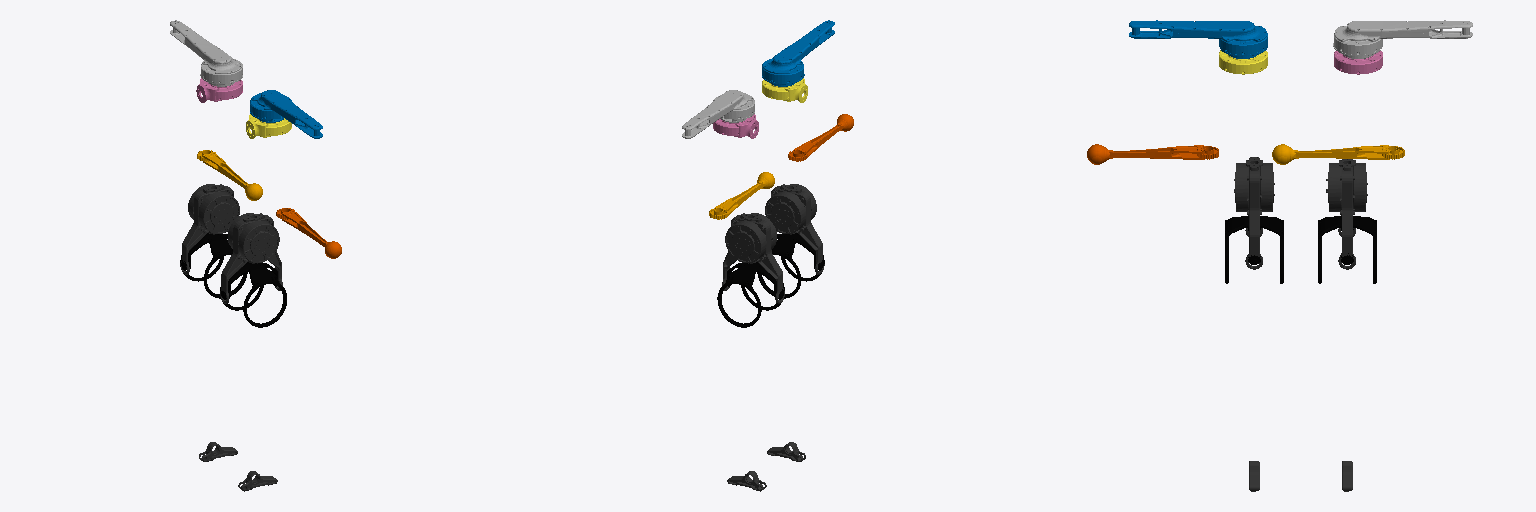
URDF robot description (humanoid):
<robot name="humanoid">
  <!-- ===== DUMMY 'BASE' LINK ==== -->
  <link name="torso">
    <inertial>
      <mass value="6.5"/>
      <origin xyz="0.0 0.0 0.15"/>
      <inertia ixx="0.3006167" ixy="0" ixz="0" iyy="0.23837" iyz="0" izz="0.09690467"/>
    </inertial>
    <visual>
      <geometry>
         <mesh filename="meshes/Body.dae" scale="1 1 1"/>
      </geometry>
      <origin rpy="-1.5707 0 0" xyz="0 0 0"/>
    </visual>
  </link>
  <!--!!!!!!!!!!!!!!!!!!!!!RIGHT LEG!!!!!!!!!!!!!!!!!!!!!!!!!!!!!!!!!!!!!!!!!!!!!!!!-->
  <joint name="r_hip_yaw" type="continuous">
    <axis xyz="0 0 1"/>
    <origin rpy="0 0 0" xyz="0.0 -0.090 -0.029"/>
    <parent link="torso"/>
    <child link="R_HIP_C"/>
  </joint>
  <link name="R_HIP_C">
    <inertial>
      <mass value="1.20717"/>
      <origin xyz="-0.00043 0.0 -0.05917"/>
      <inertia ixx="0.001996651" ixy="0.000000328" ixz="0.000040451" iyy="0.002472257" iyz="0.0" izz="0.001645947"/>
    </inertial>
      <visual>
        <geometry>
          <mesh filename="meshes_tello/HIP_C.dae" scale="1 1 1"/>
        </geometry>
        <origin rpy="0.0 0.0 0.0" xyz="0.0 0.0 0.0"/>
    </visual>
 </link>

  <joint name="r_hip_roll" type="continuous">
    <axis xyz="1 0 0"/>
    <origin rpy="0.0 0.0 0.0" xyz="0.0 0.0 -0.175"/>
    <parent link="R_HIP_C"/>
    <child link="R_HIP_GIMBAL"/>
  </joint>
  <link name="R_HIP_GIMBAL">
    <inertial>
      <mass value="0.26433"/>
      <origin xyz="-0.00152 0.0 0.01677"/>
      <inertia ixx="0.000735018" ixy="0.0" ixz="0.000001772" iyy="0.000715107" iyz="0.000000002" izz="0.000728669"/>
    </inertial>
      <visual>
        <geometry>
          <mesh filename="meshes_tello/HIP_GIMBAL.dae" scale="1 1 1"/>
        </geometry>
        <origin rpy="0.0 0.0 0.0" xyz="0.0 0.0 0.0"/>
    </visual>
 </link>


  <joint name="r_hip_pitch" type="continuous">
    <axis xyz="0 1 0"/>
    <origin rpy="0.0 0 0.0" xyz="0.0 0.0 -0.022"/>
    <parent link="R_HIP_GIMBAL"/>
    <child link="R_THIGH"/>
  </joint>

  <link name="R_THIGH">
    <inertial>
      <mass value="2.111"/>
      <origin xyz="-0.00525 0.00011 -0.03179"/>
      <inertia ixx="0.012171016" ixy="-0.000013456" ixz="-0.000145044" iyy="0.011789322" iyz="0.000027517" izz="0.003575467"/>
    </inertial>
     <visual>
       <geometry>
         <mesh filename="meshes_tello/THIGH.dae" scale="1 1 1"/>
       </geometry>
       <origin rpy="0.0 0.0 0.0" xyz="0.0 0.0 0.0"/>
    </visual>
  </link>

  <joint name="r_knee" type="continuous">
    <axis xyz="0 1 0"/>
    <!-- <origin rpy="0 0 0" xyz="0.0 0.0 -0.47"/> -->
    <origin rpy="0 0 0" xyz="0.0 0.0 -0.2276"/>
    <parent link="R_THIGH"/>
    <child link="R_SHANK" />
  </joint>

  <link name="R_SHANK">
    <inertial>
      <mass value="0.37773"/>
      <origin xyz="0.00396 -0.00016 -0.098.34"/>
      <inertia ixx="0.001797413" ixy="0.000002934" ixz="0.000019506" iyy="0.001815537" iyz="0.000003553" izz="0.000143890"/>
    </inertial>
      <visual>
        <geometry>
          <mesh filename="meshes_tello/SHANK.dae" scale="1 1 1"/>
        </geometry>
        <origin rpy="0.0 0.0 0.0" xyz="0.0 0.0 0.0"/>
    </visual>
  </link>

  <joint name="r_ankle" type="continuous">
    <axis xyz="0 1 0"/>
    <!-- <origin rpy="0 0 0" xyz="0.0 0.0 -0.47"/> -->
    <origin rpy="0 0 0" xyz="0.0 0.0 -0.2276"/>
    <parent link="R_SHANK"/>
    <child link="R_Foot" />
  </joint>

  <link name="R_Foot">
    <inertial>
      <mass value="0.05552"/>
      <origin xyz="0.01067 0.0 -0.01226"/>
      <inertia ixx="0.000006734" ixy="0.0" ixz="0.000002630" iyy="0.000036387" iyz="0.0" izz="0.000032703"/>
    </inertial>
      <visual>
        <geometry>
          <mesh filename="meshes_tello/FOOT.dae" scale="1 1 1"/>
        </geometry>
        <origin rpy="0.0 0.0 0.0" xyz="0.0 0.0 0.0"/>
    </visual>
  </link>

  <!--!!!!!!!!!!!!!!!!!!!!!LEFT LEG!!!!!!!!!!!!!!!!!!!!!!!!!!!!!!!!!!!!!!!!!!!!!!!!-->
  <joint name="l_hip_yaw" type="continuous">
    <axis xyz="0 0 1"/>
    <origin rpy="0 0 0" xyz="0.0 0.090 -0.029"/>
    <parent link="torso"/>
    <child link="L_HIP_C"/>
  </joint>
  <link name="L_HIP_C">
    <inertial>
      <mass value="1.19633"/>
      <origin xyz="-0.00044 0.0 -0.05368"/>
      <inertia ixx="0.001961019" ixy="0.000000328" ixz="0.000040006" iyy="0.002434744" iyz="0.0" izz="0.001642970"/>
    </inertial>
      <visual>
        <geometry>
          <mesh filename="meshes_tello/HIP_C.dae" scale="1 1 1"/>
        </geometry>
        <origin rpy="0.0 0.0 0.0" xyz="0.0 0.0 0.0"/>
    </visual>
 </link>

  <joint name="l_hip_roll" type="continuous">
    <axis xyz="1 0 0"/>
    <origin rpy="0.0 0.0 0.0" xyz="0.0 0.0 -0.175"/>
    <parent link="L_HIP_C"/>
    <child link="L_HIP_GIMBAL"/>
  </joint>
  <link name="L_HIP_GIMBAL">
    <inertial>
      <mass value="0.26433"/>
      <origin xyz="-0.00152 0.0 0.01677"/>
      <inertia ixx="0.000735018" ixy="0.0" ixz="0.000001772" iyy="0.000715107" iyz="0.000000002" izz="0.000728669"/>
    </inertial>
      <visual>
        <geometry>
          <mesh filename="meshes_tello/HIP_GIMBAL.dae" scale="1 1 1"/>
        </geometry>
        <origin rpy="0.0 0.0 0.0" xyz="0.0 0.0 0.0"/>
    </visual>
 </link>

  <joint name="l_hip_pitch" type="continuous">
    <axis xyz="0 1 0"/>
    <origin rpy="0.0 0 0.0" xyz="0.0 0.0 -0.022"/>
    <parent link="L_HIP_GIMBAL"/>
    <child link="L_THIGH"/>
  </joint>

  <link name="L_THIGH">
    <inertial>
      <mass value="2.111"/>
      <origin xyz="-0.00525 0.00011 -0.03179"/>
      <inertia ixx="0.012171016" ixy="-0.000013456" ixz="-0.000145044" iyy="0.011789322" iyz="0.000027517" izz="0.003575467"/>
    </inertial>
     <visual>
       <geometry>
         <mesh filename="meshes_tello/THIGH.dae" scale="1 1 1"/>
       </geometry>
       <origin rpy="0.0 0.0 0.0" xyz="0.0 0.0 0.0"/>
    </visual>
  </link>

  <joint name="l_knee" type="continuous">
    <axis xyz="0 1 0"/>
    <!-- <origin rpy="0 0 0" xyz="0.0 0.0 -0.47"/> -->
    <origin rpy="0 0 0" xyz="0.0 0.0 -0.2276"/>
    <parent link="L_THIGH"/>
    <child link="L_SHANK" />
  </joint>

  <link name="L_SHANK">
    <inertial>
      <mass value="0.37773"/>
      <origin xyz="0.00396 -0.00016 -0.098.34"/>
      <inertia ixx="0.001797413" ixy="0.000002934" ixz="0.000019506" iyy="0.001815537" iyz="0.000003553" izz="0.000143890"/>
    </inertial>
      <visual>
        <geometry>
          <mesh filename="meshes_tello/SHANK.dae" scale="1 1 1"/>
        </geometry>
        <origin rpy="0.0 0.0 0.0" xyz="0.0 0.0 0.0"/>
    </visual>
  </link>

  <joint name="l_ankle" type="continuous">
    <axis xyz="0 1 0"/>
    <!-- <origin rpy="0 0 0" xyz="0.0 0.0 -0.47"/> -->
    <origin rpy="0 0 0" xyz="0.0 0.0 -0.2276"/>
    <parent link="L_SHANK"/>
    <child link="L_Foot" />
  </joint>

  <link name="L_Foot">
    <inertial>
      <mass value="0.05552"/>
      <origin xyz="0.01067 0.0 -0.01226"/>
      <inertia ixx="0.000006734" ixy="0.0" ixz="0.000002630" iyy="0.000036387" iyz="0.0" izz="0.000032703"/>
    </inertial>
      <visual>
        <geometry>
          <mesh filename="meshes_tello/FOOT.dae" scale="1 1 1"/>
        </geometry>
        <origin rpy="0.0 0.0 0.0" xyz="0.0 0.0 0.0"/>
    </visual>
  </link>

  <!--!!!!!!!!!!!!!!!!!!!!!RIGHT ARM!!!!!!!!!!!!!!!!!!!!!!!!!!!!!!!!!!!!!!!!!!!!!!!!-->
  <joint name="torso_to_R_ShoulderRx" type="continuous">
    <axis xyz="1 0 0"/>
    <origin rpy="0 0 0" xyz="-0.0215 -0.1115 0.202"/>
    <parent link="torso"/>
    <child link="R_ShoulderRx"/>
  </joint>
  <link name="R_ShoulderRx">
    <inertial>
      <mass value="0.30"/>
      <origin xyz="0.01 0.0 0.0"/>
      <inertia ixx="0.003735" ixy="0.0" ixz="0.0" iyy="0.01391" iyz="0.0" izz="0.01355"/>
    </inertial>
    <visual>
      <geometry>
        <mesh filename="meshes/ShoulderRx.dae" scale="1 1 1"/>
      </geometry>
      <origin rpy="-1.5707 0 0.0" xyz="0. 0. 0"/>
    </visual>
   </link>

  <joint name="R_ShoulderRx_to_R_UpperArm" type="continuous">
    <axis xyz="0 1 0"/>
    <origin rpy="0 0 0" xyz="0.0545 0.0 0.0"/>
    <parent link="R_ShoulderRx"/>
    <child link="R_UpperArm"/>
  </joint>
  <link name="R_UpperArm">
    <inertial>
      <mass value="0.37"/>
      <origin xyz="0.0 0.0 -0.09"/>
      <inertia ixx="0.003735" ixy="0.0" ixz="0.0" iyy="0.01391" iyz="0.0" izz="0.01355"/>
    </inertial>
    <visual>
      <geometry>
        <mesh filename="meshes/UpperArm.dae" scale="1 1 1"/>
      </geometry>
      <origin rpy="-1.5707 0 0.0" xyz="0. 0. 0"/>
    </visual>
  </link>

  <joint name="R_UpperArm_to_R_ForeArm" type="continuous">
    <axis xyz="0 1 0"/>
    <origin rpy="0 0 0" xyz="0.0 -0.068 -0.195"/>
    <parent link="R_UpperArm"/>
    <child link="R_ForeArm"/>
  </joint>
  <link name="R_ForeArm">
    <inertial>
      <mass value="0.1"/>
      <origin xyz="0.0 0.0 -0.04"/>
      <inertia ixx="0.003735" ixy="0.0" ixz="0.0" iyy="0.01391" iyz="0.0" izz="0.01355"/>
    </inertial>
    <visual>
      <geometry>
         <mesh filename="meshes/ForeArm2.dae" scale="1 1 1"/>
      </geometry>
      <origin rpy="-1.5707 0 0" xyz="0.0 0.0 0"/>
    </visual>
  </link>

  <!--!!!!!!!!!!!!!!!!!!!!!LEFT ARM!!!!!!!!!!!!!!!!!!!!!!!!!!!!!!!!!!!!!!!!!!!!!!!!-->
  <joint name="torso_to_L_ShoulderRx" type="continuous">
    <axis xyz="1 0 0"/>
    <origin rpy="0 0 0" xyz="-0.0215 0.1115 0.202"/>
    <parent link="torso"/>
    <child link="L_ShoulderRx"/>
  </joint>
  <link name="L_ShoulderRx">
    <inertial>
      <mass value="0.30"/>
      <origin xyz="0.01 0.0 0.0"/>
      <inertia ixx="0.003735" ixy="0.0" ixz="0.0" iyy="0.01391" iyz="0.0" izz="0.01355"/>
    </inertial>
    <visual>
      <geometry>
        <mesh filename="meshes/ShoulderRx.dae" scale="1 1 1"/>
      </geometry>
      <origin rpy="-1.5707 0 0.0" xyz="0. 0. 0"/>
    </visual>
   </link>

  <joint name="L_ShoulderRx_to_L_UpperArm" type="continuous">
    <axis xyz="0 1 0"/>
    <origin rpy="0 0 0" xyz="0.0545 0.0 0.0"/>
    <parent link="L_ShoulderRx"/>
    <child link="L_UpperArm"/>
  </joint>
  <link name="L_UpperArm">
    <inertial>
      <mass value="0.37"/>
      <origin xyz="0.0 0.0 -0.09"/>
      <inertia ixx="0.003735" ixy="0.0" ixz="0.0" iyy="0.01391" iyz="0.0" izz="0.01355"/>
    </inertial>
    <visual>
      <geometry>
        <mesh filename="meshes/UpperArm.dae" scale="1 1 1"/>
      </geometry>
      <origin rpy="-1.5707 0 3.141592" xyz="0. 0. 0"/>
    </visual>
  </link>

  <joint name="L_UpperArm_to_L_ForeArm" type="continuous">
    <axis xyz="0 1 0"/>
    <origin rpy="0 0 0" xyz="0.0 0.068 -0.195"/>
    <parent link="L_UpperArm"/>
    <child link="L_ForeArm"/>
  </joint>
  <link name="L_ForeArm">
    <inertial>
      <mass value="0.1"/>
      <origin xyz="0.0 0.0 -0.04"/>
      <inertia ixx="0.003735" ixy="0.0" ixz="0.0" iyy="0.01391" iyz="0.0" izz="0.01355"/>
    </inertial>
    <visual>
      <geometry>
         <mesh filename="meshes/ForeArm2.dae" scale="1 1 1"/>
      </geometry>
      <origin rpy="-1.5707 0 0" xyz="0.0 0.0 0"/>
    </visual>
  </link>
</robot>

--- What the picture shows (computed from the rendered views, not written in the file) ---
The picture shows the robot from 3 angles, left to right: view 1: azimuth 30°, elevation 25°; view 2: azimuth 150°, elevation 25°; view 3: azimuth 270°, elevation 25°; orthographic projection.
Model humanoid with 17 links and 16 joints (16 continuous), rooted at torso, posed every joint at zero.
Links seen in each view (by area): view 1: R_HIP_C, L_HIP_C, L_UpperArm, R_UpperArm, R_HIP_GIMBAL, L_HIP_GIMBAL, L_ForeArm, R_ForeArm, L_ShoulderRx, R_ShoulderRx; view 2: L_HIP_C, R_HIP_C, R_UpperArm, L_UpperArm, L_HIP_GIMBAL, R_HIP_GIMBAL, L_ForeArm, R_ForeArm, R_ShoulderRx, L_ShoulderRx; view 3: L_UpperArm, R_UpperArm, R_HIP_C, L_HIP_C, L_ForeArm, R_ForeArm, L_HIP_GIMBAL, R_HIP_GIMBAL, R_ShoulderRx, L_ShoulderRx.
Boxes of the visible links, x1,y1,x2,y2 form: R_HIP_C: [220, 213, 282, 303]; L_HIP_C: [180, 184, 239, 274]; L_UpperArm: [170, 20, 242, 86]; R_UpperArm: [250, 90, 322, 138]; R_HIP_GIMBAL: [220, 262, 286, 327]; L_HIP_GIMBAL: [180, 233, 247, 298]; L_ForeArm: [197, 150, 262, 200]; R_ForeArm: [276, 208, 341, 258]; L_ShoulderRx: [196, 78, 242, 102]; R_ShoulderRx: [246, 114, 291, 138]; L_HIP_C: [722, 213, 784, 303]; R_HIP_C: [765, 184, 824, 274]; R_UpperArm: [762, 20, 834, 86]; L_UpperArm: [682, 90, 754, 138]; L_HIP_GIMBAL: [717, 262, 784, 327]; R_HIP_GIMBAL: [757, 233, 824, 298]; L_ForeArm: [709, 172, 774, 219]; R_ForeArm: [788, 114, 853, 161]; R_ShoulderRx: [762, 78, 807, 102]; L_ShoulderRx: [713, 114, 758, 138]; L_UpperArm: [1333, 20, 1472, 58]; R_UpperArm: [1129, 20, 1267, 58]; R_HIP_C: [1234, 157, 1274, 269]; L_HIP_C: [1326, 159, 1367, 269]; L_ForeArm: [1272, 144, 1404, 164]; R_ForeArm: [1087, 144, 1218, 164]; L_HIP_GIMBAL: [1318, 216, 1376, 283]; R_HIP_GIMBAL: [1225, 216, 1283, 283]; R_ShoulderRx: [1219, 50, 1267, 74]; L_ShoulderRx: [1334, 51, 1382, 74].
Size in the robot's own frame: 0.1627 by 0.7481 by 0.9919 metres.
12 mesh visuals loaded from 9 distinct referenced files (6 Collada DAE); not drawn: 5 (reference not matched to a file when rendering).